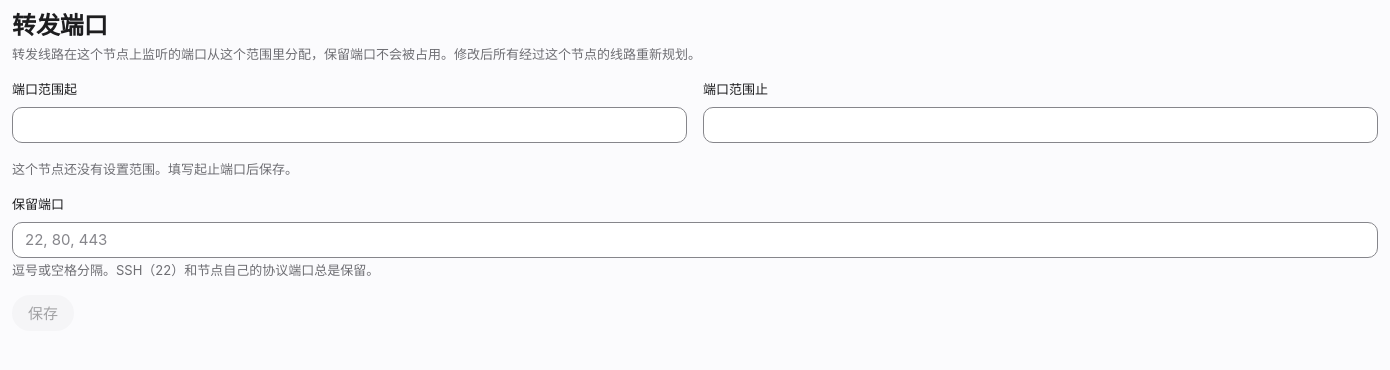
Test case: NodeForwardPortsSection › refuses a range with one end
Type "40000" into the number field labelled "端口范围起" at (350, 125), box [13,108,686,142]
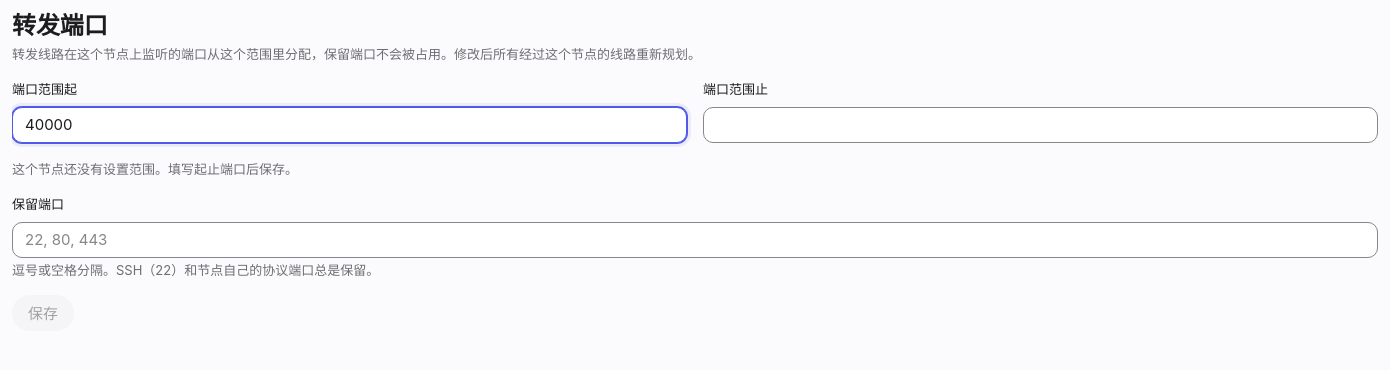
Click the button with test id "node-forward-ports-save" at (43, 314), box [12,296,74,332]
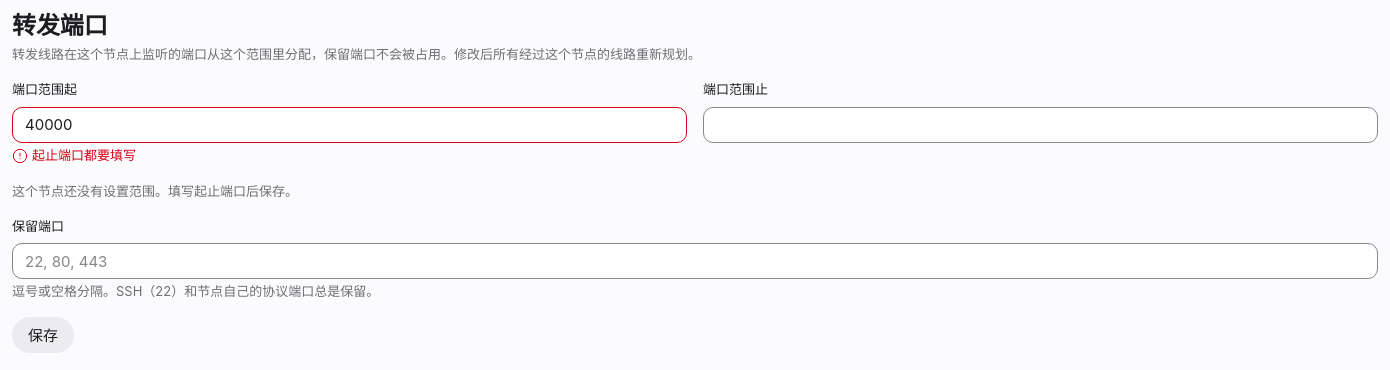
Result: the text "起止端口都要填写" is shown at [32,147,136,165]
